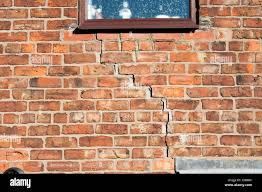stairstep_crack: (93, 31, 178, 173)
